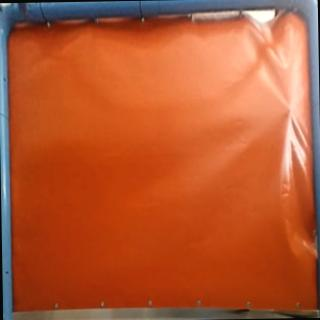Hit-hRxx: (282, 99, 298, 119)
